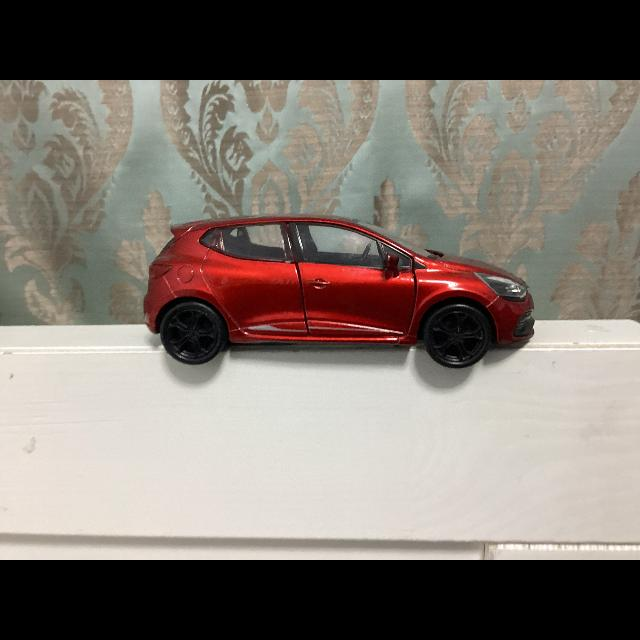Dogru_Jant: (431, 312, 483, 361), (167, 308, 215, 356)
